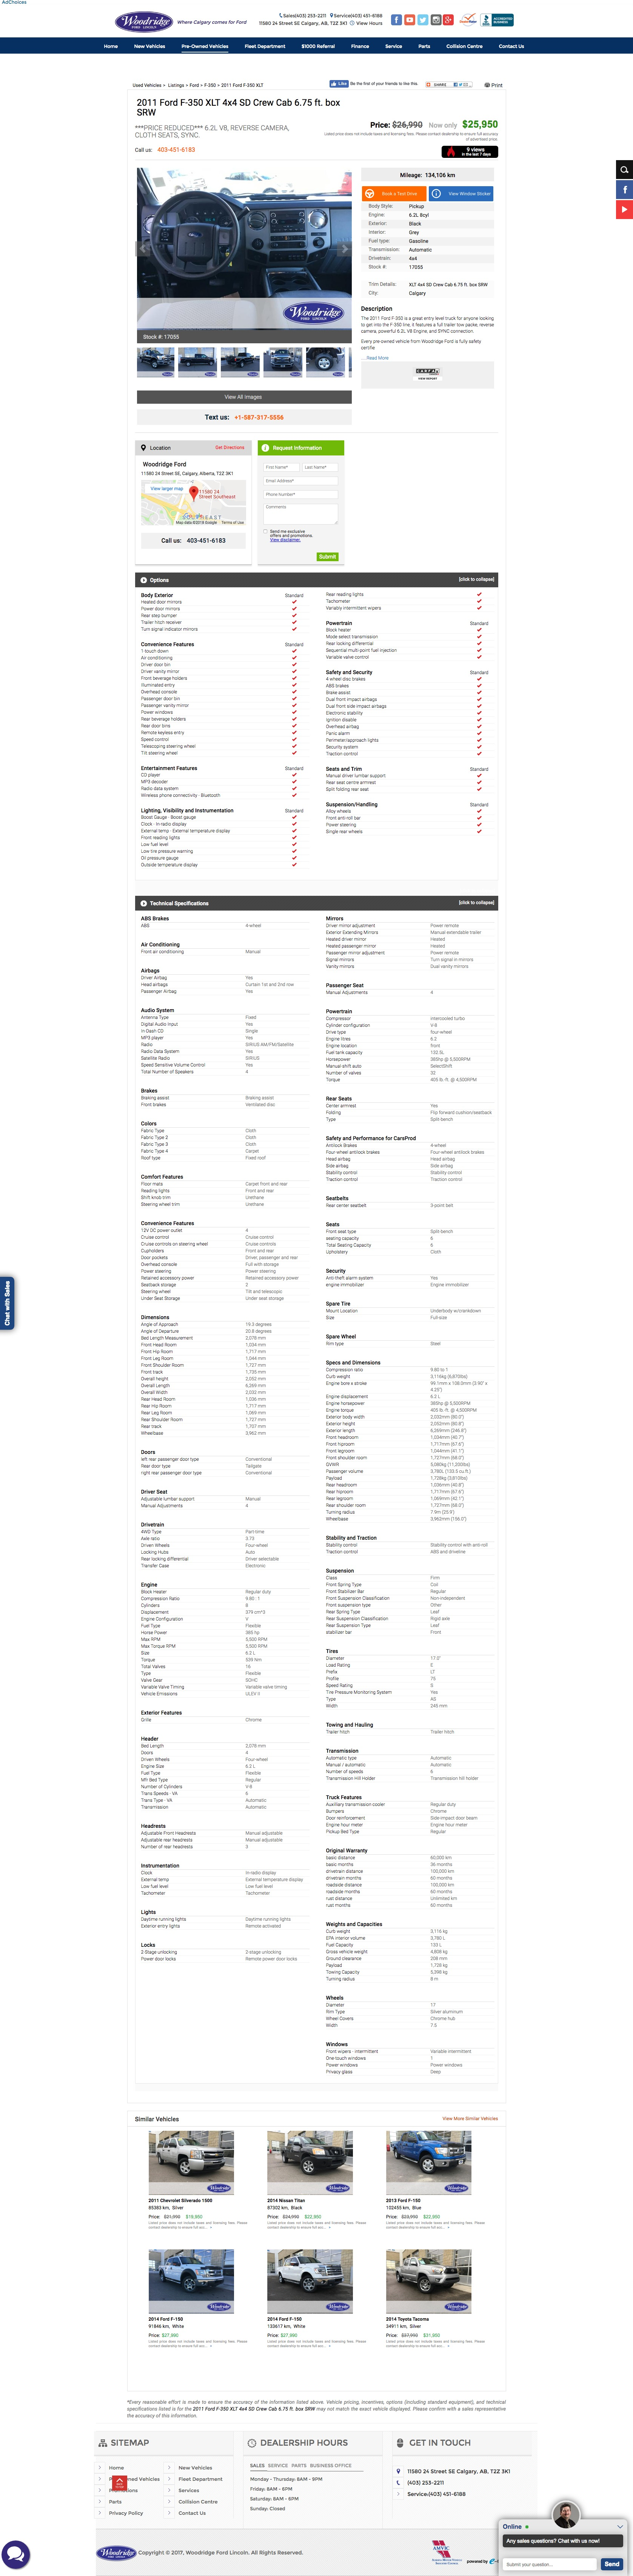car: (336, 240, 354, 258)
